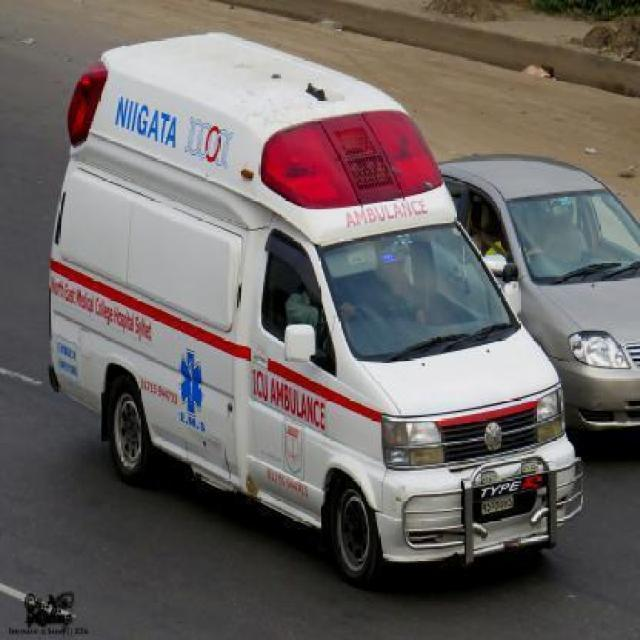emergency: (47, 29, 586, 586)
